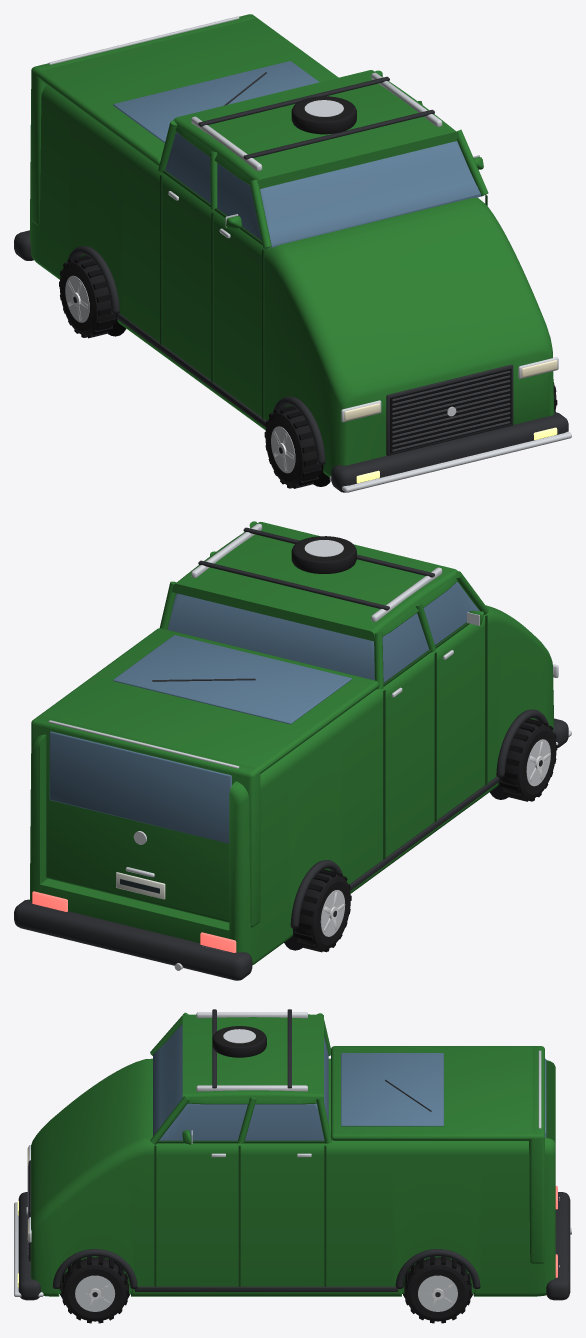
File: question.fbx
3 renders of one model, top to bottom at view 1: azimuth 30°, elevation 25°; view 2: azimuth 150°, elevation 25°; view 3: azimuth 270°, elevation 25°, orthographic. The views are drawn at different scales.
Parts seen in each view (by area): view 1: Body, Lid, Wheel_1, Wheel_3, LidFlap; view 2: Body, LidFlap, Lid, Wheel_1, Wheel_3; view 3: Body, Lid, Wheel_0, Wheel_2, LidFlap.
Boxes of the visible parts, x1,y1,x2,y2 form: Body: [14, 70, 571, 492]; Lid: [31, 14, 338, 165]; Wheel_1: [59, 255, 116, 338]; Wheel_3: [264, 406, 322, 488]; LidFlap: [31, 14, 255, 225]; Body: [14, 521, 571, 980]; LidFlap: [31, 715, 260, 927]; Lid: [31, 628, 379, 777]; Wheel_1: [294, 869, 351, 952]; Wheel_3: [499, 719, 557, 801]; Body: [14, 1009, 571, 1300]; Lid: [331, 1046, 544, 1140]; Wheel_0: [404, 1256, 471, 1323]; Wheel_2: [61, 1256, 128, 1323]; LidFlap: [529, 1046, 546, 1263].
Bounding box in the file's own units: 5.5 × 5.81 × 12.24.
